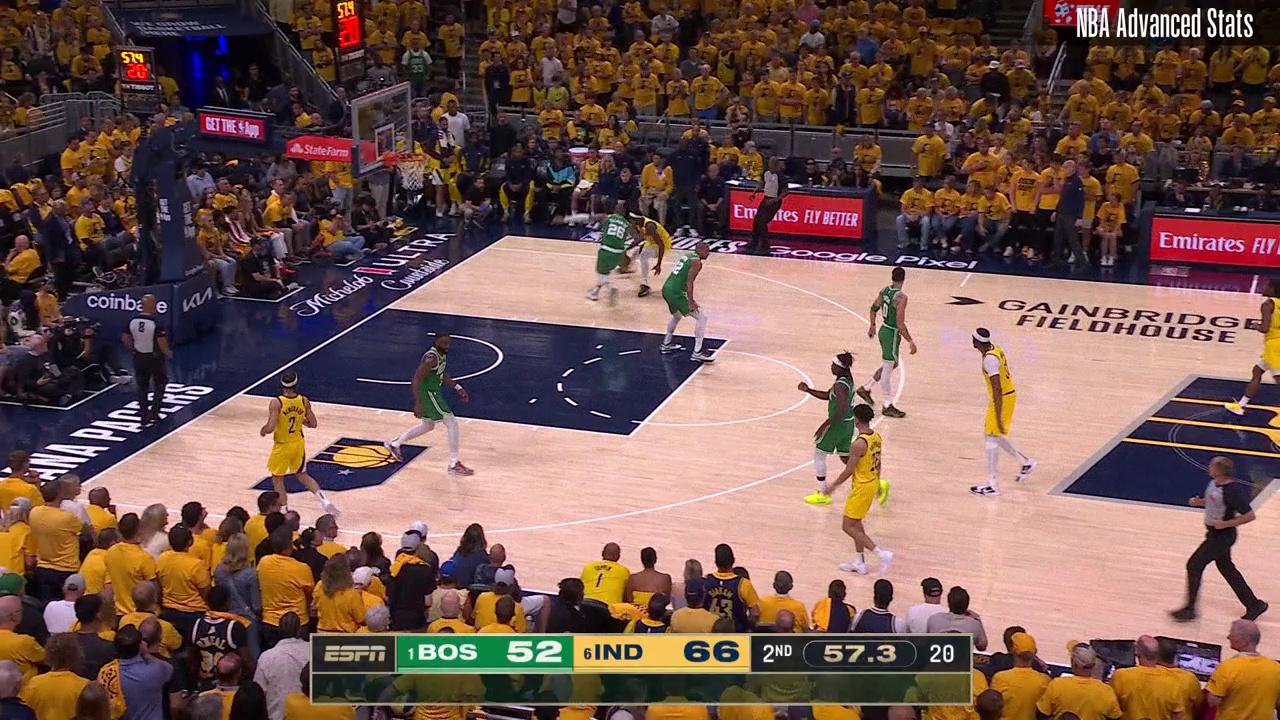3_dx: (485, 245, 493, 252)
b_dx: (503, 232, 513, 241)
free_adx: (725, 337, 734, 346)
free_asx: (625, 432, 635, 441)
free_bdx: (384, 304, 392, 310)
free_bsx: (235, 390, 245, 397)
mid_dx: (955, 281, 967, 292)
team: (808, 351, 885, 502), (399, 334, 471, 476), (873, 266, 910, 423), (669, 246, 716, 354), (593, 202, 636, 297)
team1: (832, 409, 899, 574), (970, 328, 1036, 495), (265, 369, 338, 518), (628, 212, 673, 296)
